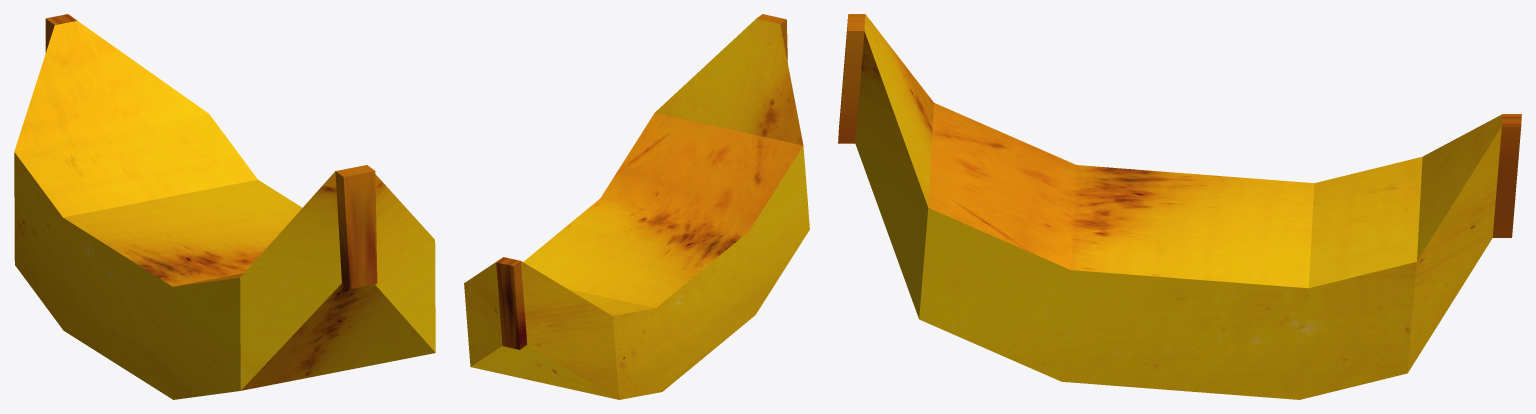
Rendered from Banan.fbx.
The picture shows the model from 3 angles, left to right: view 1: azimuth 30°, elevation 25°; view 2: azimuth 150°, elevation 25°; view 3: azimuth 270°, elevation 25°; orthographic projection. The views are drawn at different scales.
Parts seen in each view (by area): view 1: polySurface5; view 2: polySurface5; view 3: polySurface5.
Boxes of the visible parts, left/top/right/bottom form: polySurface5: left=14, top=14, right=435, bottom=399; polySurface5: left=464, top=14, right=809, bottom=399; polySurface5: left=838, top=14, right=1521, bottom=399.
Bounding box in the file's own units: 0.1015 × 0.1452 × 0.282.
